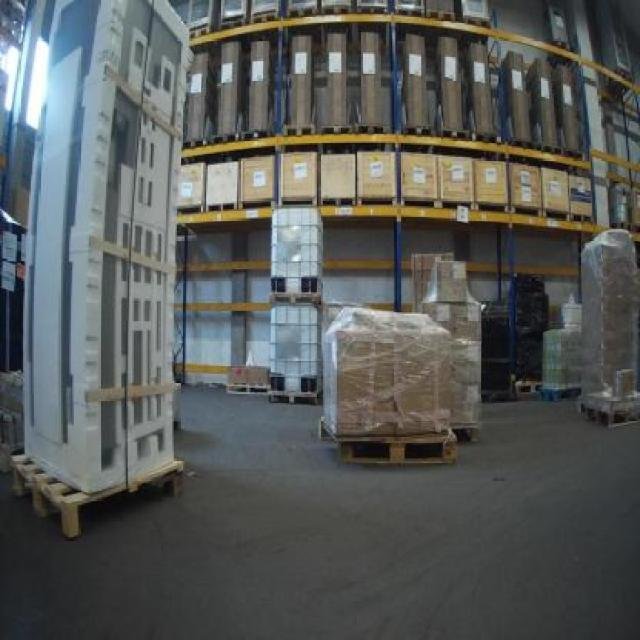ground: (0, 382, 638, 638)
pallet: (3, 444, 192, 549), (338, 429, 458, 468), (513, 135, 588, 162), (575, 399, 638, 428), (271, 292, 326, 308), (226, 382, 272, 397), (453, 424, 483, 446), (270, 393, 322, 405), (216, 14, 248, 33), (357, 194, 398, 208), (237, 196, 277, 210), (400, 196, 438, 210), (462, 13, 495, 29), (427, 7, 458, 24), (443, 124, 475, 140), (320, 195, 358, 208), (209, 130, 239, 146), (356, 3, 390, 17), (282, 124, 318, 137), (250, 10, 279, 26), (515, 379, 544, 395), (476, 200, 509, 214), (240, 128, 274, 141), (188, 23, 214, 40), (205, 200, 239, 213), (511, 202, 542, 216), (316, 124, 352, 136), (278, 196, 317, 207), (322, 2, 352, 16), (179, 135, 205, 151), (396, 5, 428, 18), (439, 199, 474, 210), (403, 125, 435, 137), (544, 207, 570, 221), (287, 7, 319, 18), (176, 203, 205, 214), (355, 124, 382, 134), (571, 213, 595, 224)
